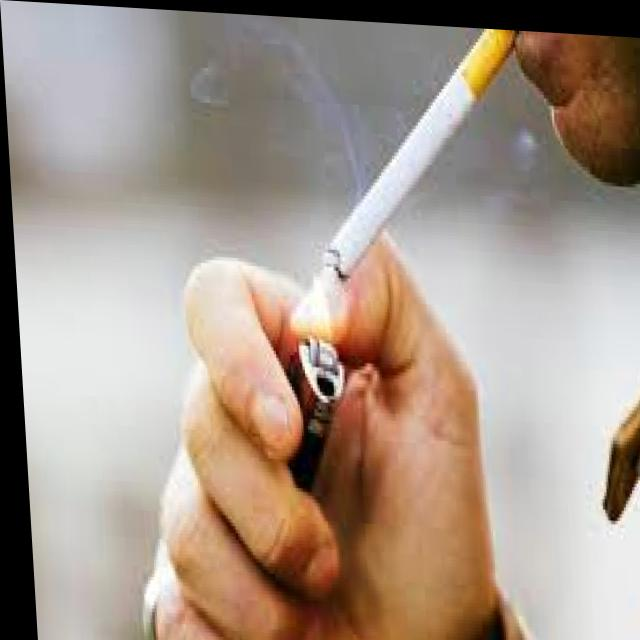fire: (291, 251, 339, 340)
